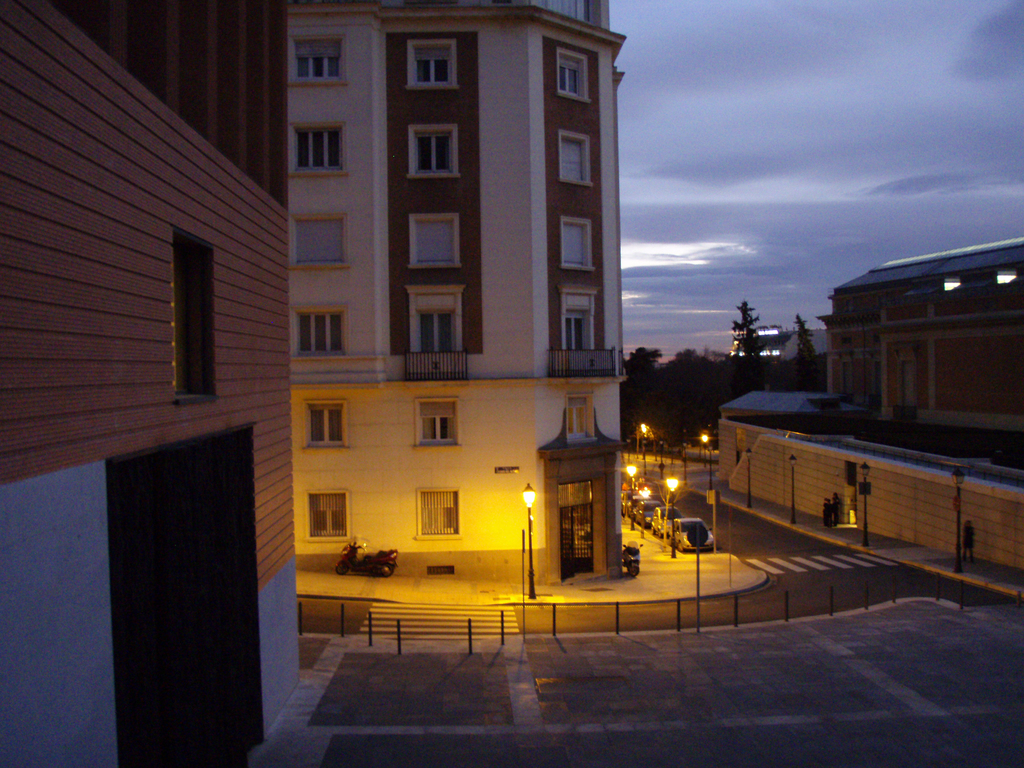Tree: (720, 296, 785, 389), (649, 472, 696, 547), (624, 346, 666, 387), (790, 311, 815, 364)
